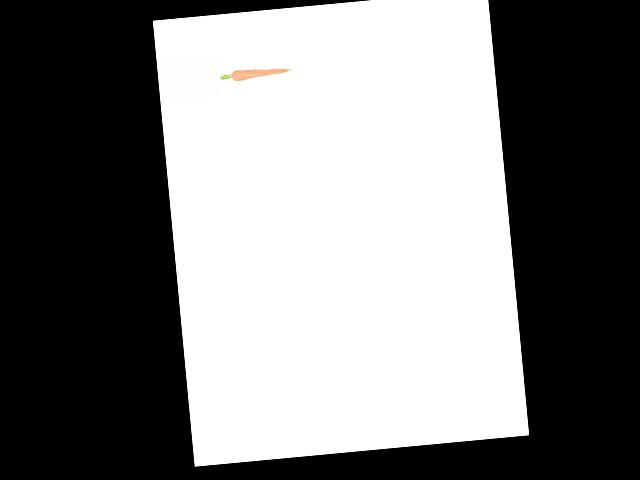carrot: (229, 62, 296, 84)
